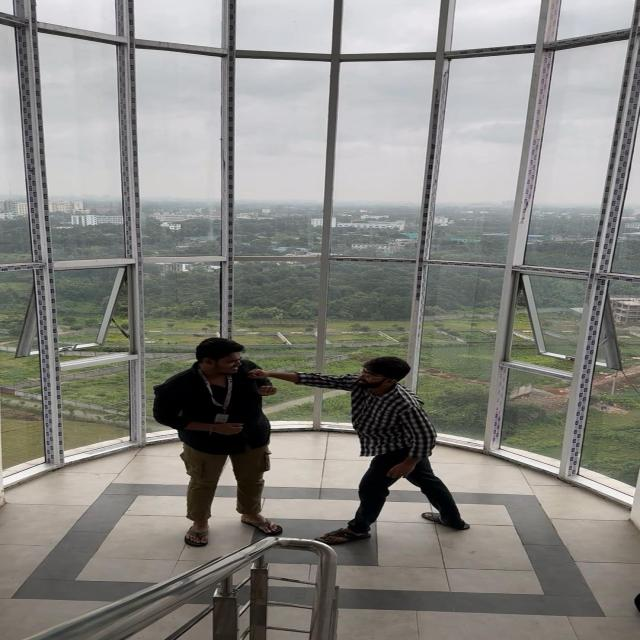fight: (130, 321, 530, 556)
